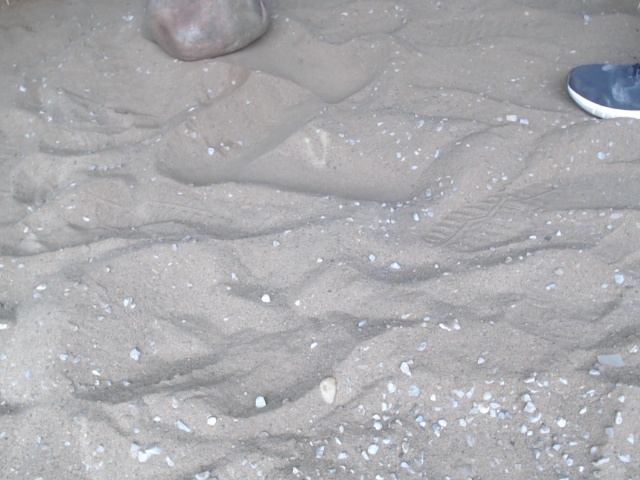rock: (136, 1, 278, 68)
